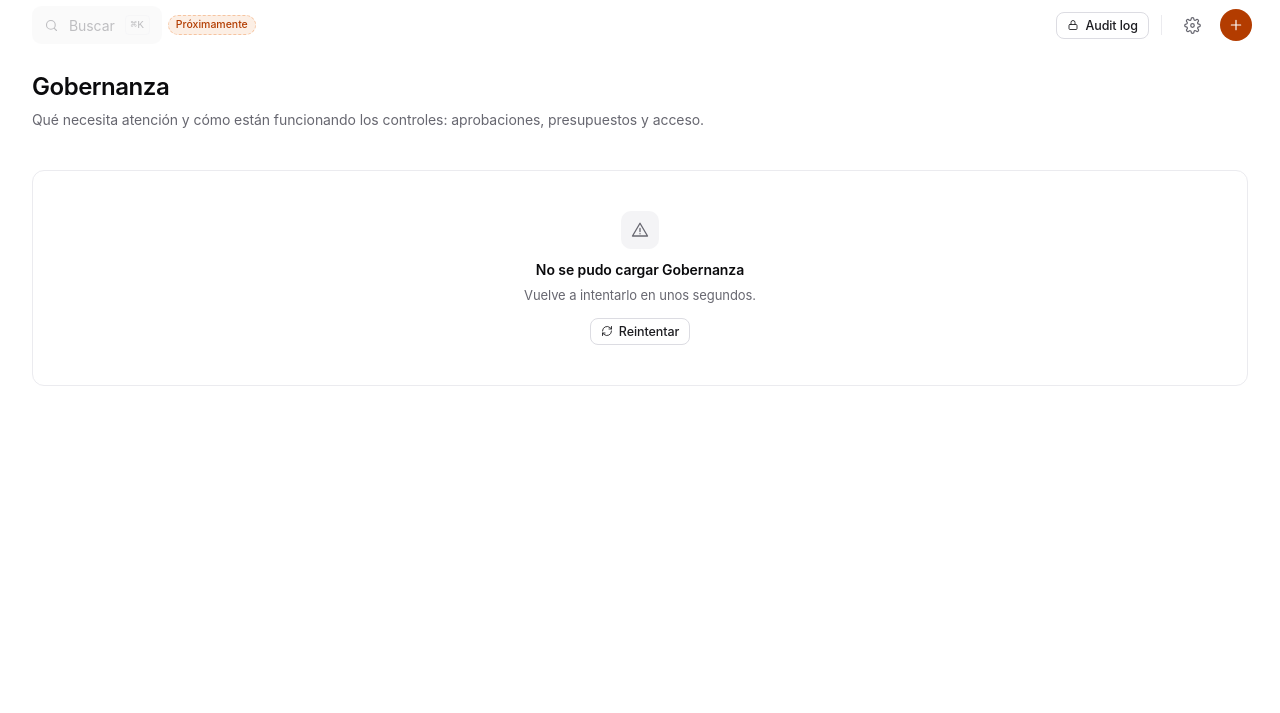
Test: GovernancePage › shows the skeleton while loading and an error with «Reintentar»
expect the text "No se pudo cargar Gobernanza" is shown: met, box [536,259,744,280]
Click the button "Reintentar" at (640,331), box [590,318,690,344]
(page scrolled)
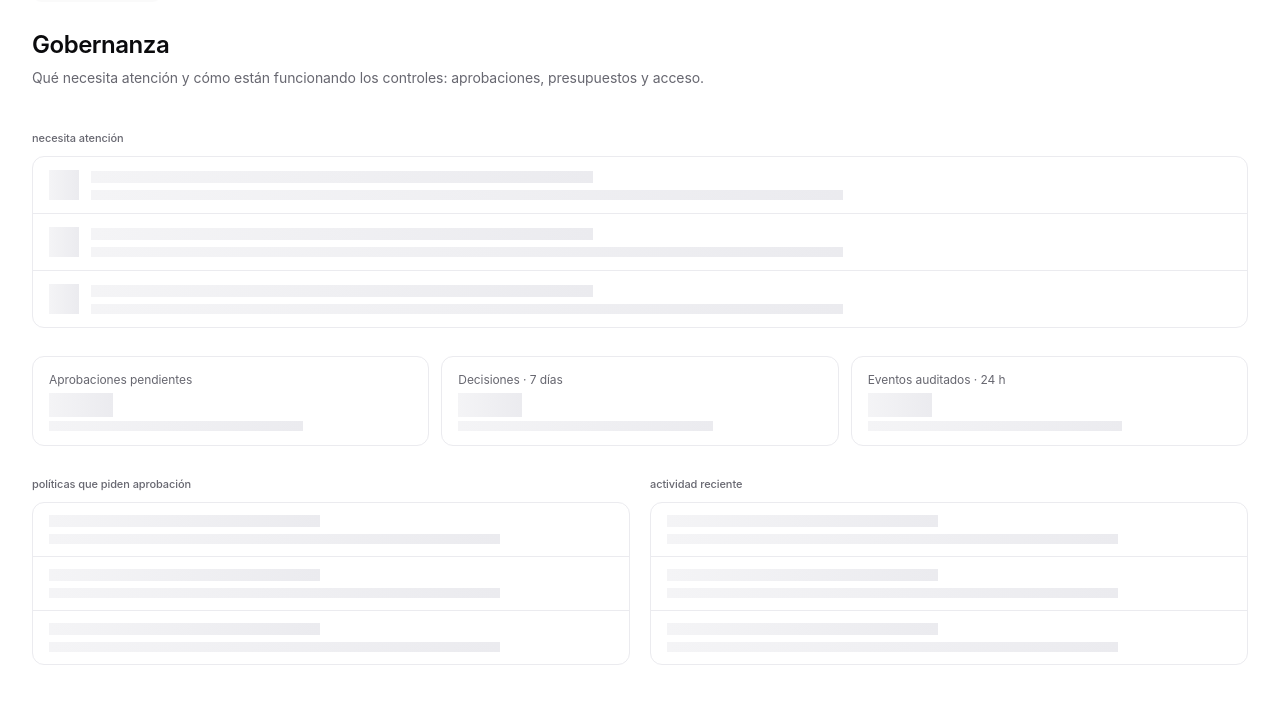
expect the message named "Cargando gobernanza" is shown: met
